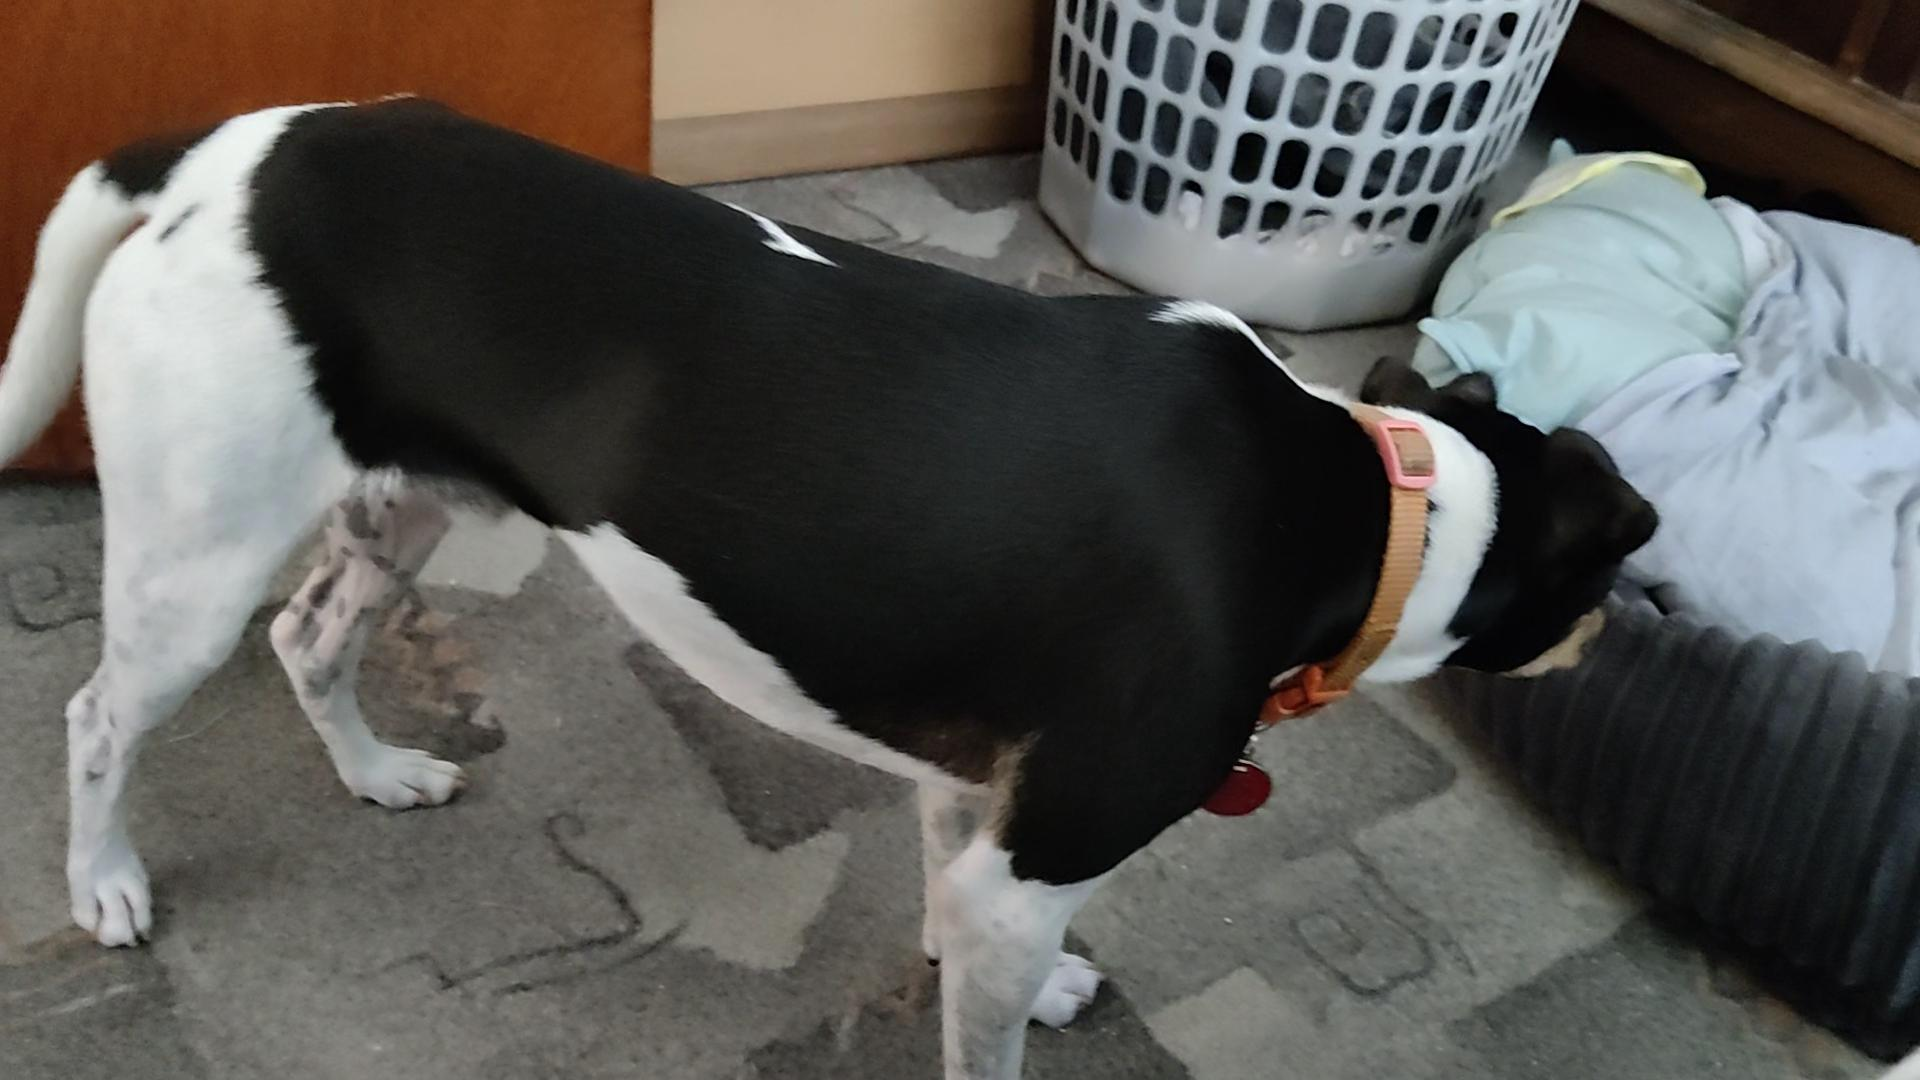Dog: (0, 80, 1683, 1079)
